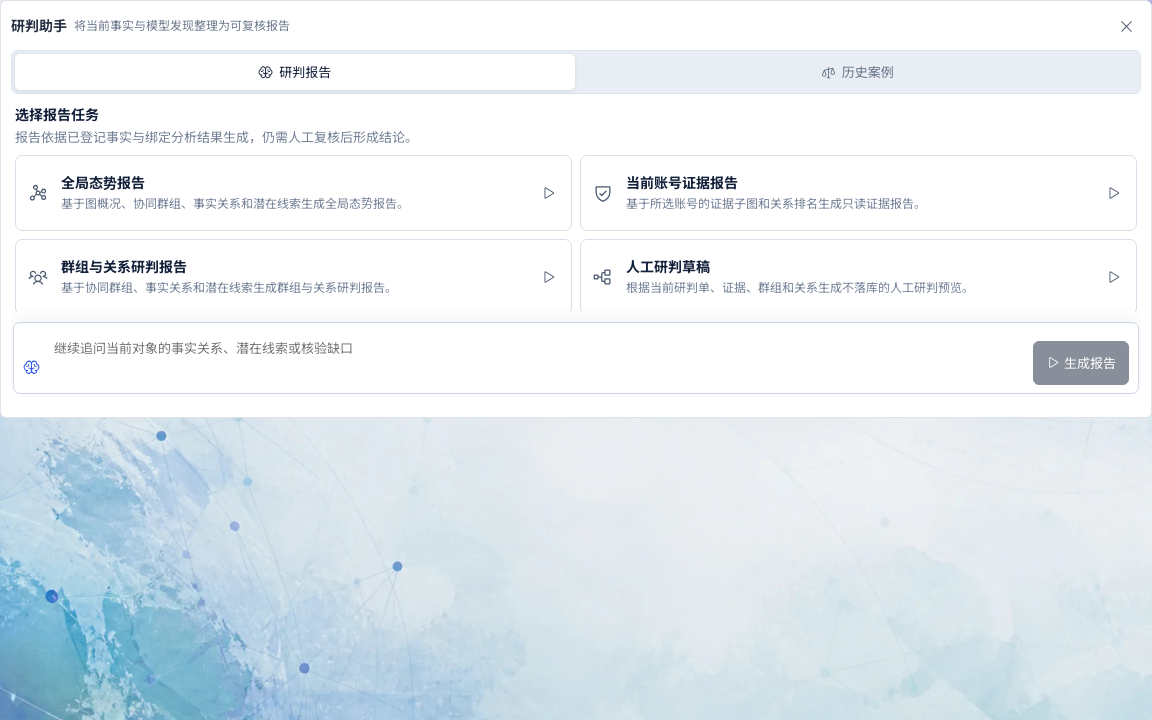
Scenario: governance report assistant › maps similar-case conflict GOVERNANCE_SIMILAR_CASE_TARGETS_REQUIRED to a specific recovery message
This screenshot has width=1152, height=720.
Click the tab "历史案例": click(857, 72) [578,54,1137,90]
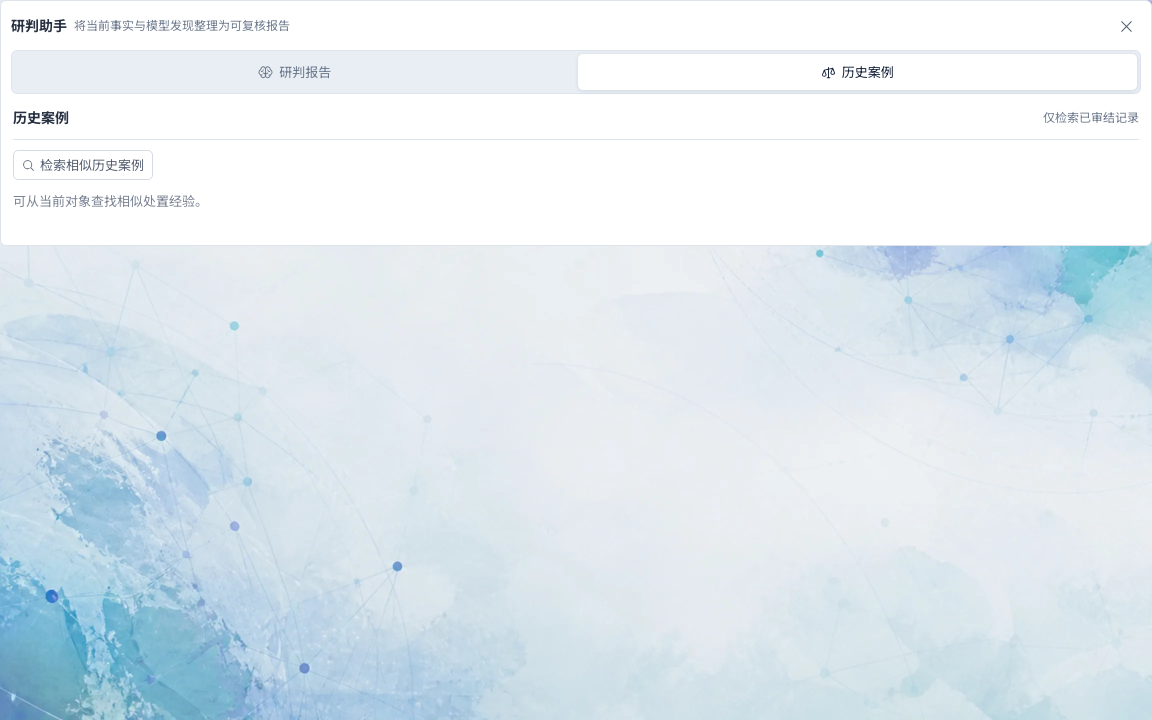
Click the button "检索相似历史案例": click(83, 165) [13,150,153,180]
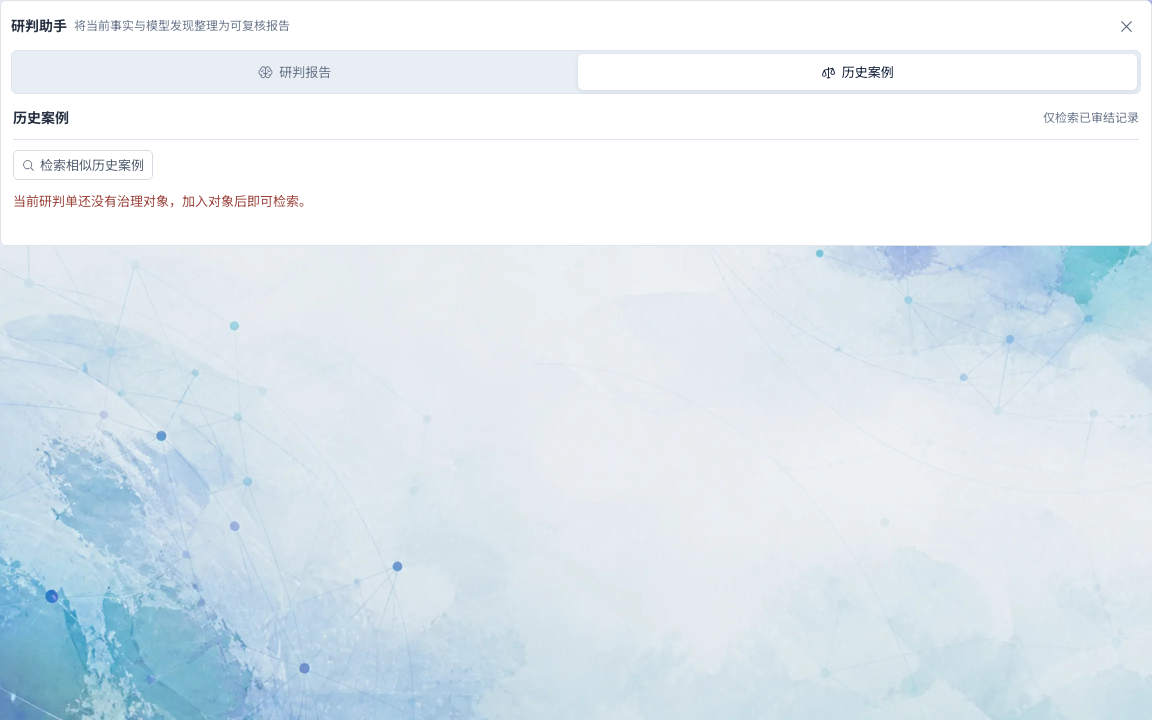
Check: the text "当前研判单还没有治理对象，加入对象后即可检索。" is shown, box [13,193,312,209]
